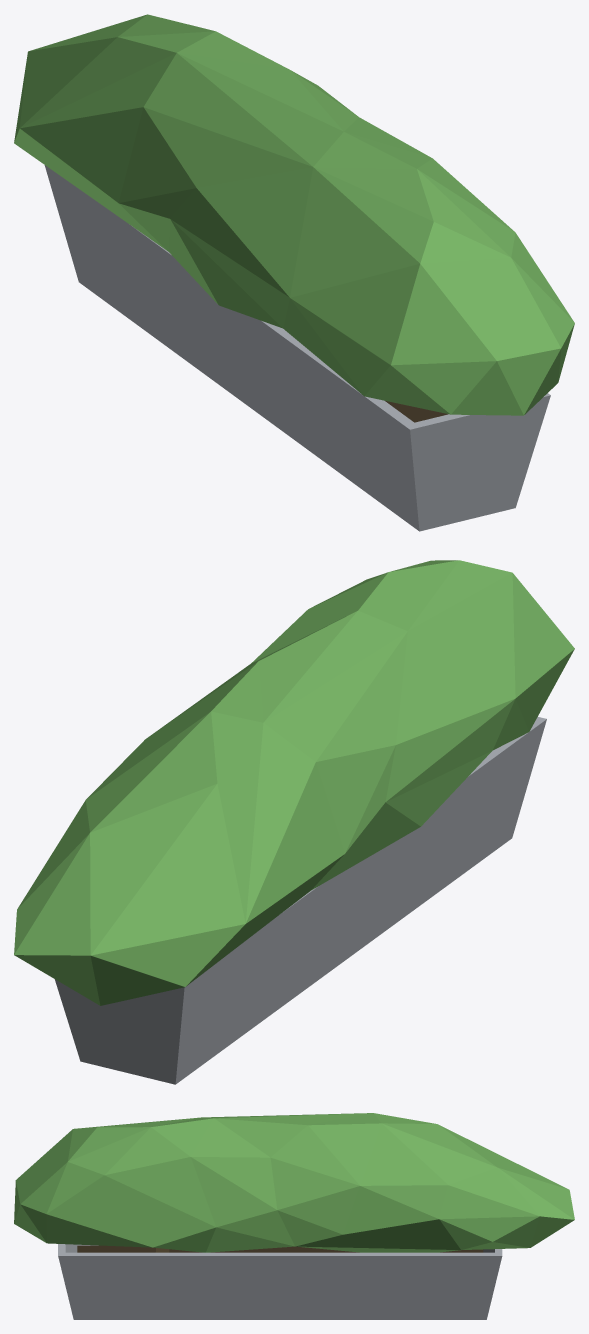
The model's file is window Plant.fbx.
3 renders of one model, top to bottom at view 1: azimuth 30°, elevation 25°; view 2: azimuth 150°, elevation 25°; view 3: azimuth 270°, elevation 25°, orthographic. The views are drawn at different scales.
Visible parts, largest first — view 1: window plant; view 2: window plant; view 3: window plant.
Part boxes in pixels (box(x1,y1,x2,y2)): window plant: box(14, 14, 574, 531); window plant: box(14, 560, 574, 1084); window plant: box(14, 1113, 574, 1319).
Bounding box in the file's own units: 108 × 141 × 388.
